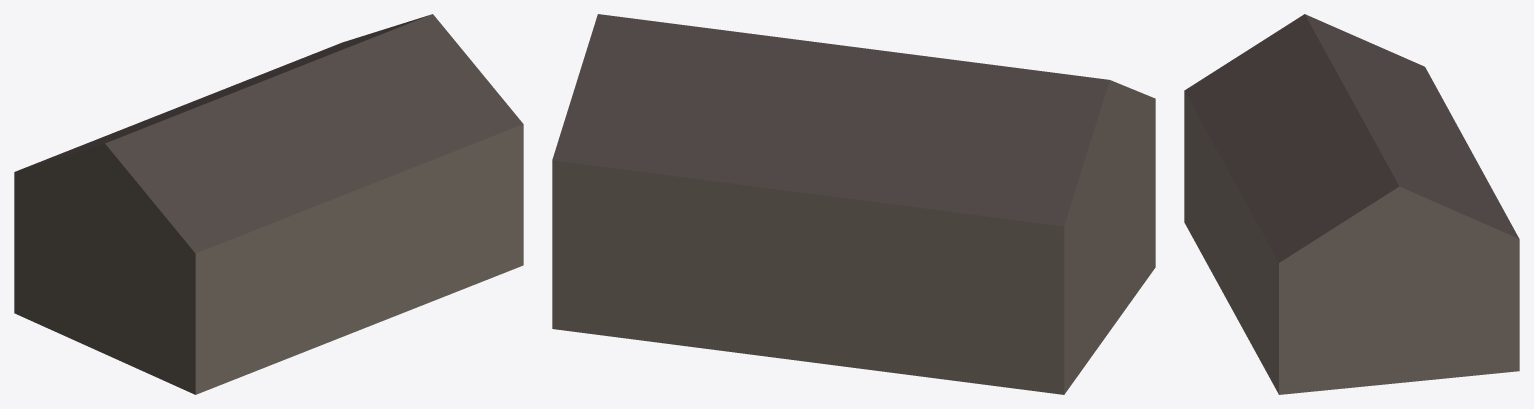
The picture shows the model from 3 angles, left to right: view 1: azimuth 30°, elevation 25°; view 2: azimuth 150°, elevation 25°; view 3: azimuth 270°, elevation 25°; orthographic projection. The views are drawn at different scales.
Visible parts, largest first — view 1: HP-w293416984; view 2: HP-w293416984; view 3: HP-w293416984.
Part boxes in pixels (box(x1,y1,x2,y2)): HP-w293416984: box(14, 14, 523, 394); HP-w293416984: box(552, 14, 1155, 394); HP-w293416984: box(1184, 14, 1519, 394).
Size of the model in its own units: 28.71 by 13.41 by 20.72.
